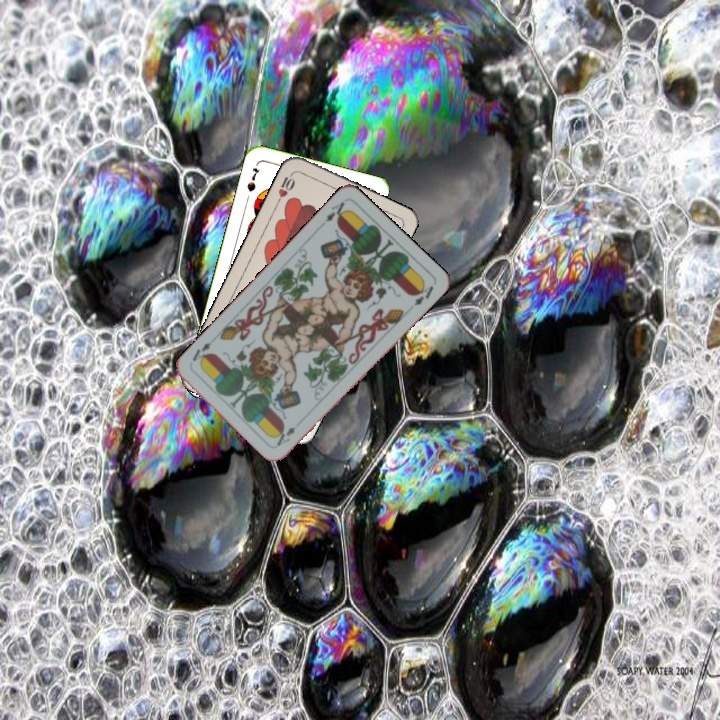EA: (316, 197, 351, 230), (272, 416, 305, 449)
H10: (273, 168, 298, 206)
S7: (243, 164, 262, 194)
